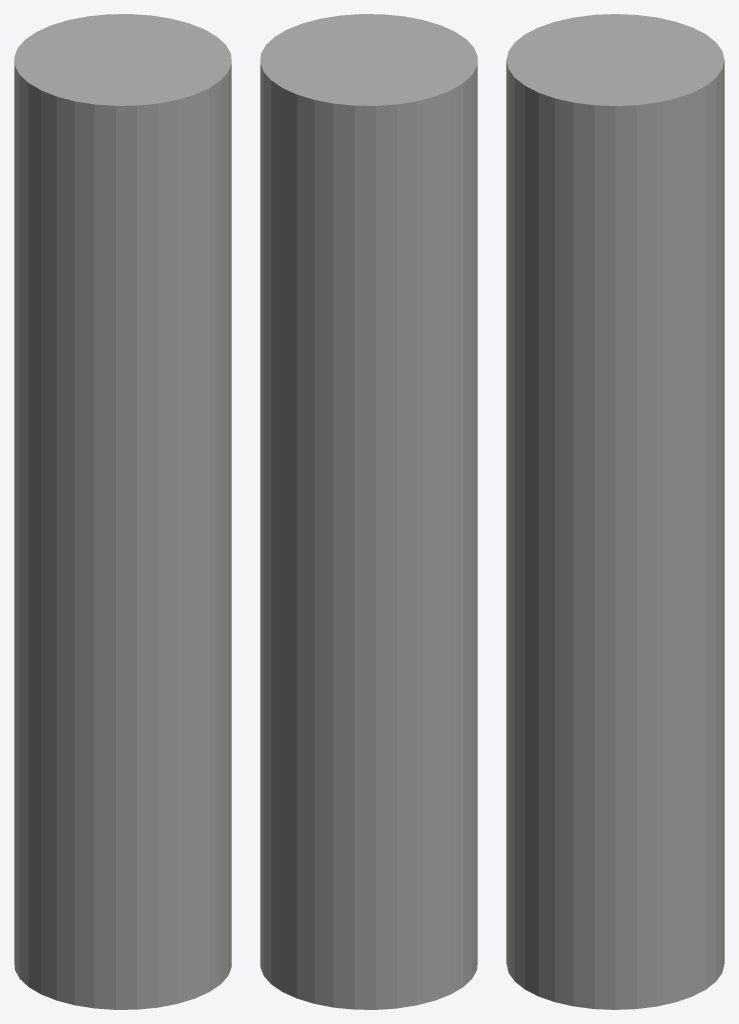
The model's file is Lever Arm.glb.
3 views of the same model, side by side, from view 1: azimuth 30°, elevation 25°; view 2: azimuth 150°, elevation 25°; view 3: azimuth 270°, elevation 25° (orthographic).
Visible parts, largest first — view 1: Cylinder.002; view 2: Cylinder.002; view 3: Cylinder.002.
Boxes of the visible parts, <box> form: Cylinder.002: <box>14,14,231,1009</box>; Cylinder.002: <box>260,14,477,1009</box>; Cylinder.002: <box>506,14,724,1009</box>.
Size of the model in its own units: 0.32 by 1.46 by 0.32.
Materials: 1 (1 with a texture image).
